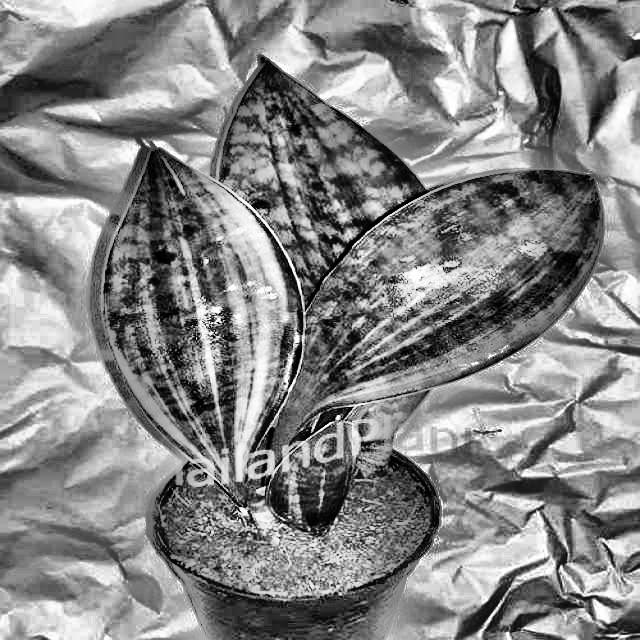plants: (94, 63, 598, 628)
